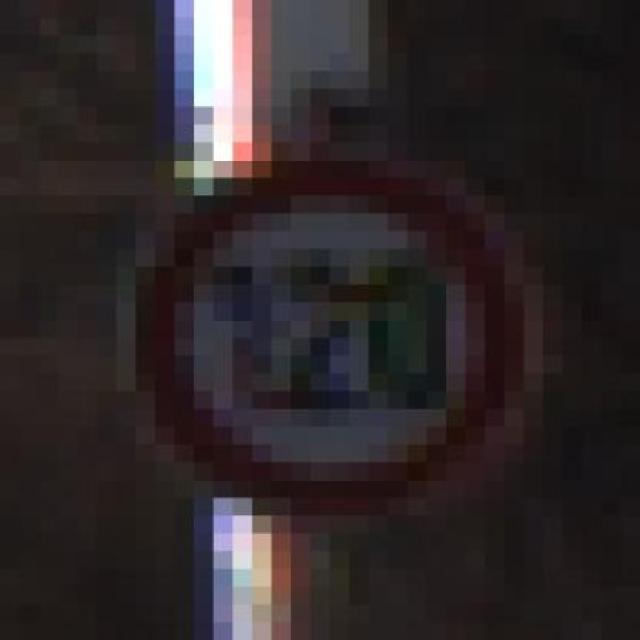forb_speed_over_120: (144, 154, 521, 508)
